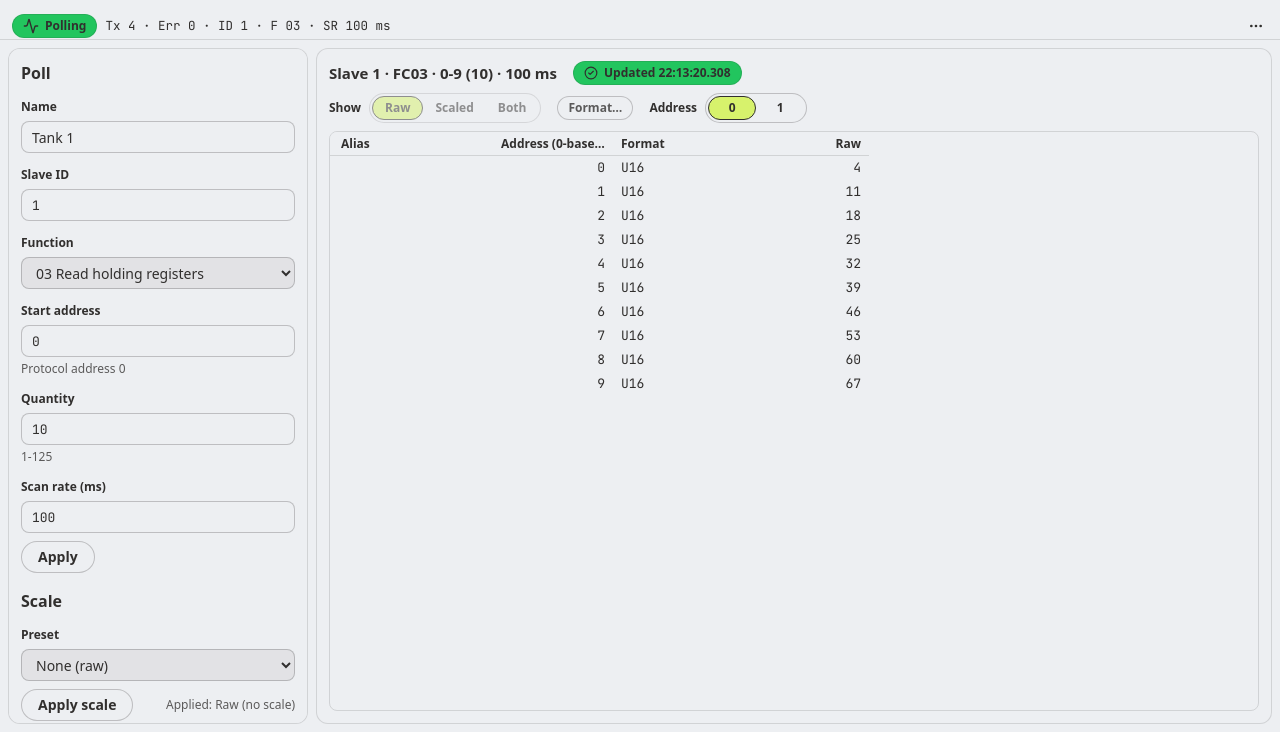
Test case: the scale section in the workspace host › the quick pick 4000-20000 fills the raw fields
The width and height of the screenshot is (1280, 732).
Select "4-20 mA" in the dropdown labelled "Preset": x=158, y=665 [21,649,295,681]
(page scrolled)
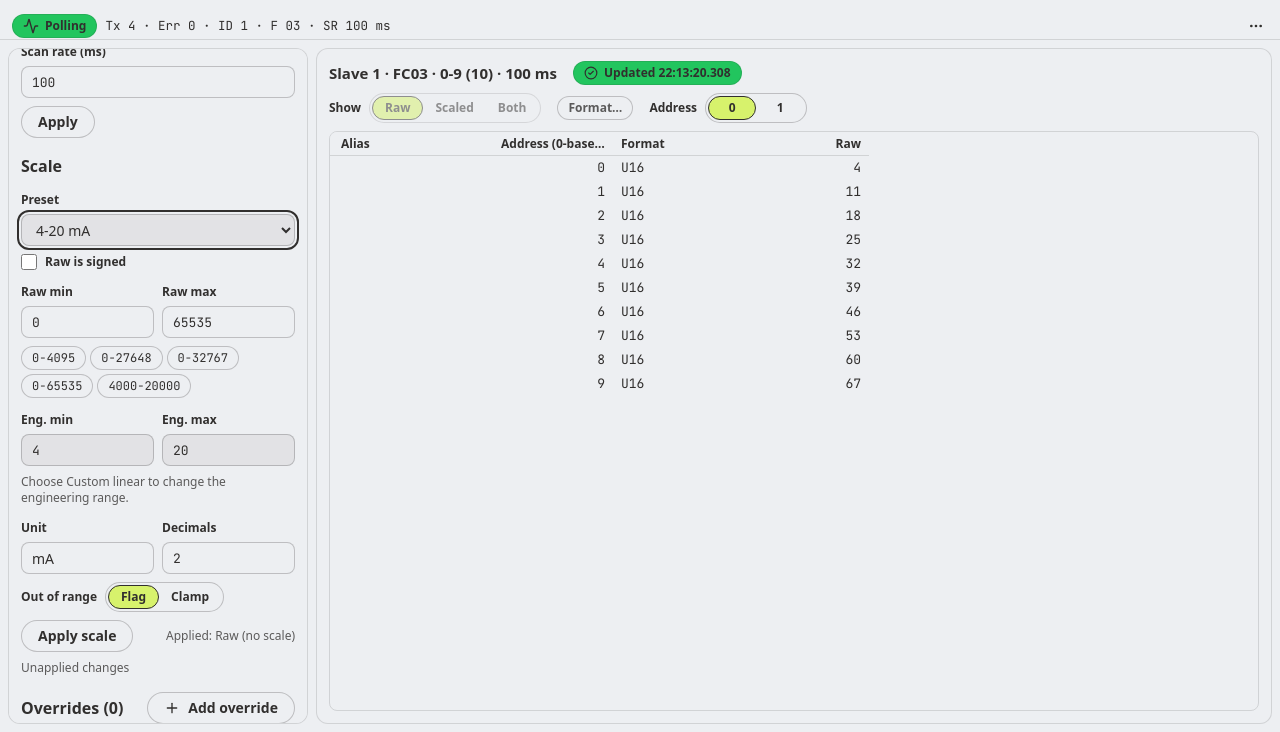
Click the button "4000-20000": x=144, y=386 [97,374,191,398]
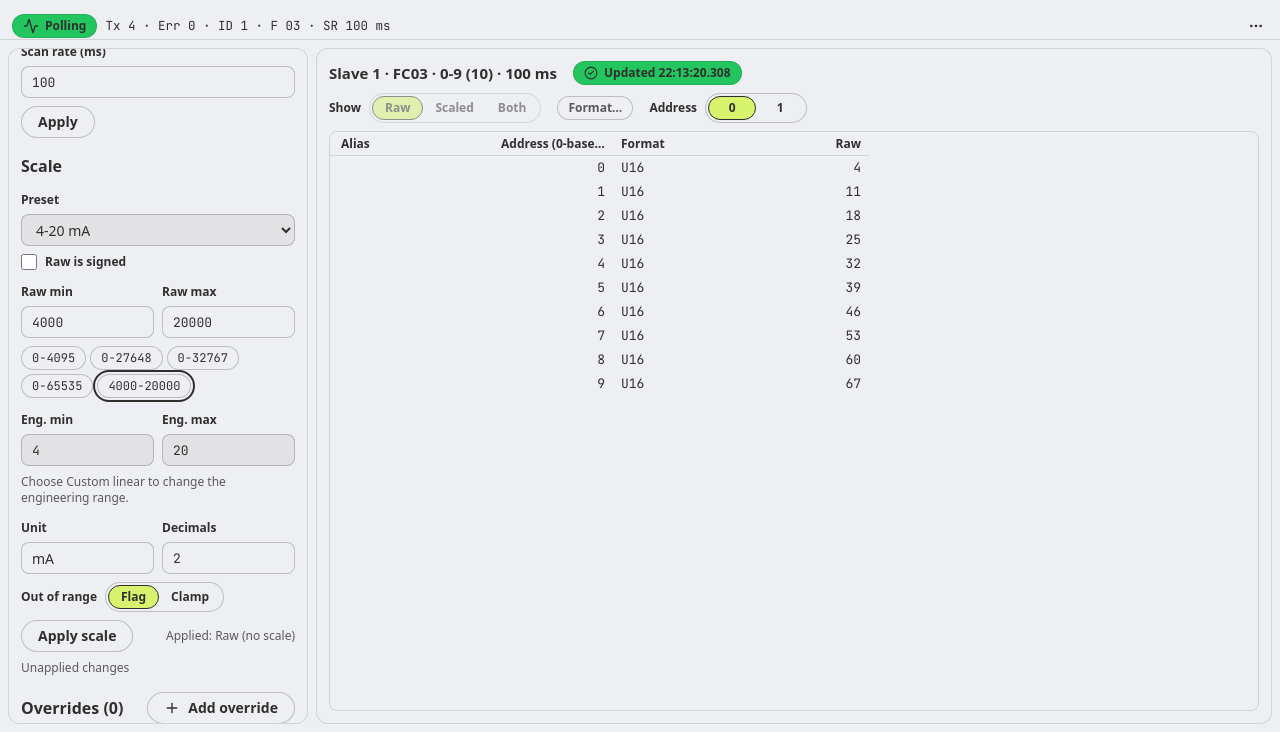
Expected: the button "0-4095" is shown, [21,346,86,370]
Expected: the field labelled "Raw min" holds "4000", [21,306,154,338]
Expected: the field labelled "Raw max" holds "20000", [162,306,295,338]
